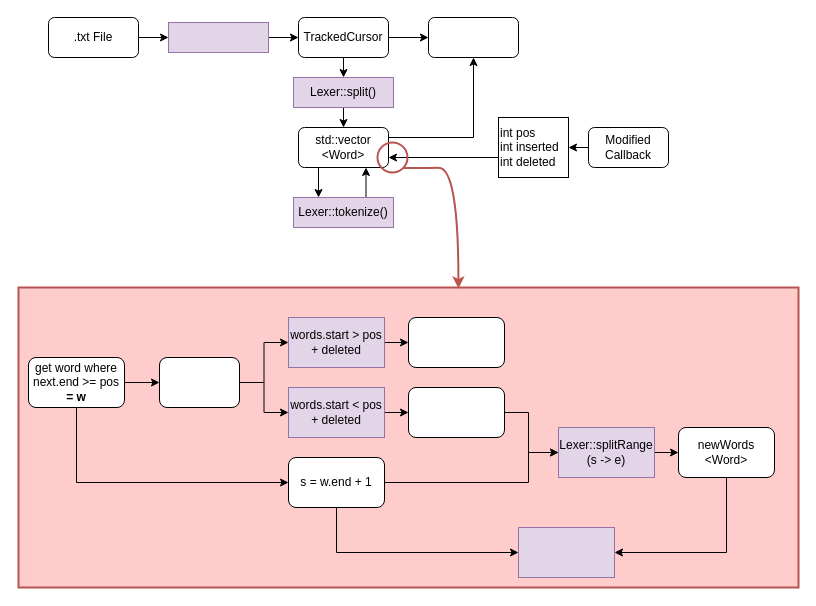
The diagram is 816 pixels wide and 606 high, and some of its shapes have lost their labels. The shapes that lost their labels are listed below. From the top down, each one's box as (x1, y1, x2, y2) in pixels, then its label:
(168, 22, 268, 52): Filesystem::open()
(428, 16, 518, 58): Syntax File
(408, 316, 504, 368): words.start - deleted
(158, 356, 240, 408): if deleted > 0
(408, 386, 504, 438): e last word.end - deleted
(518, 526, 614, 578): insert(w.index, newWords)
